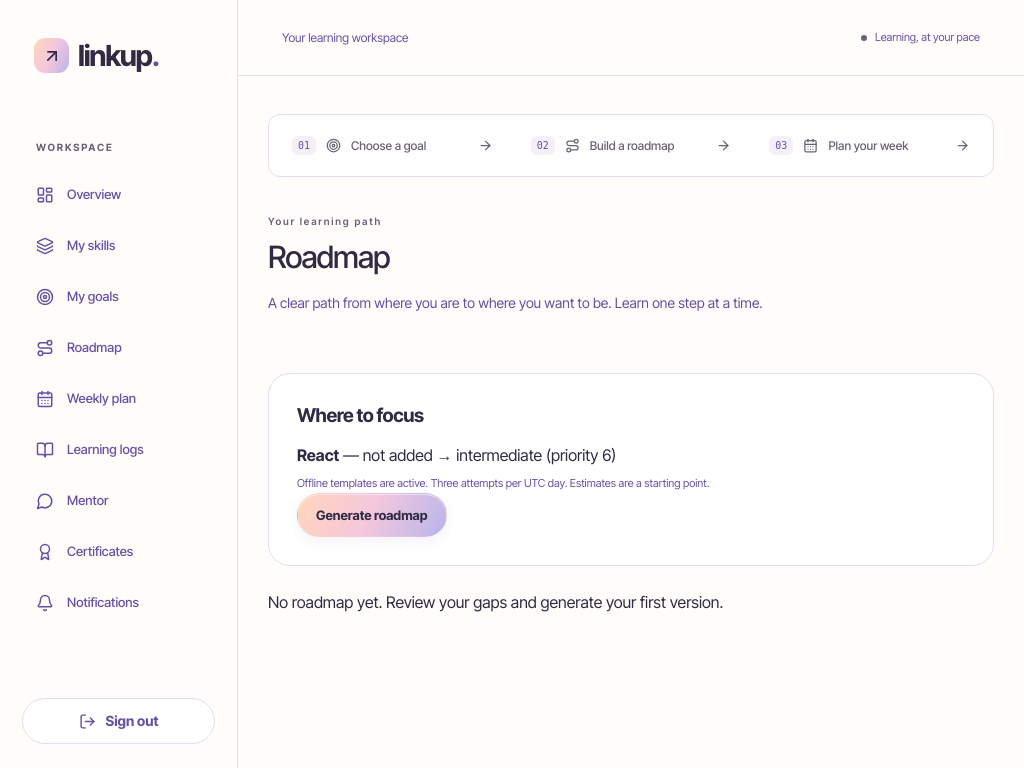
Roadmap page › requires review and confirmation before consuming an attempt
Click the button "Generate roadmap" at point(372, 515), box [297,493,446,537]
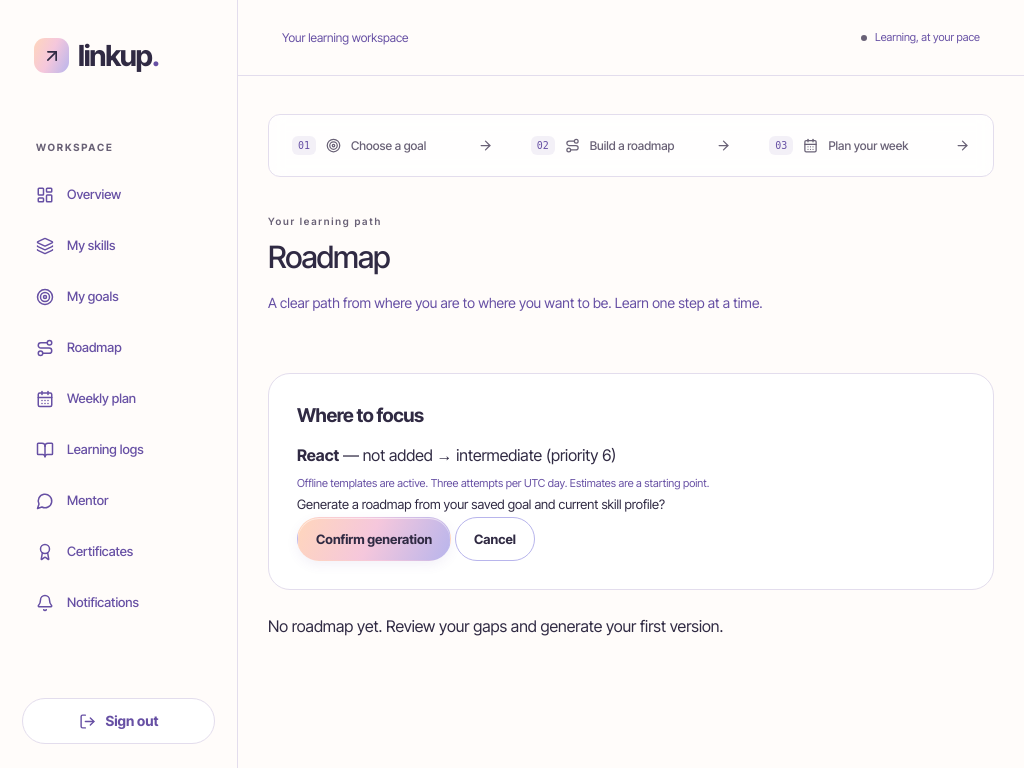
Click the button "Cancel" at point(495, 539), box [455,517,535,561]
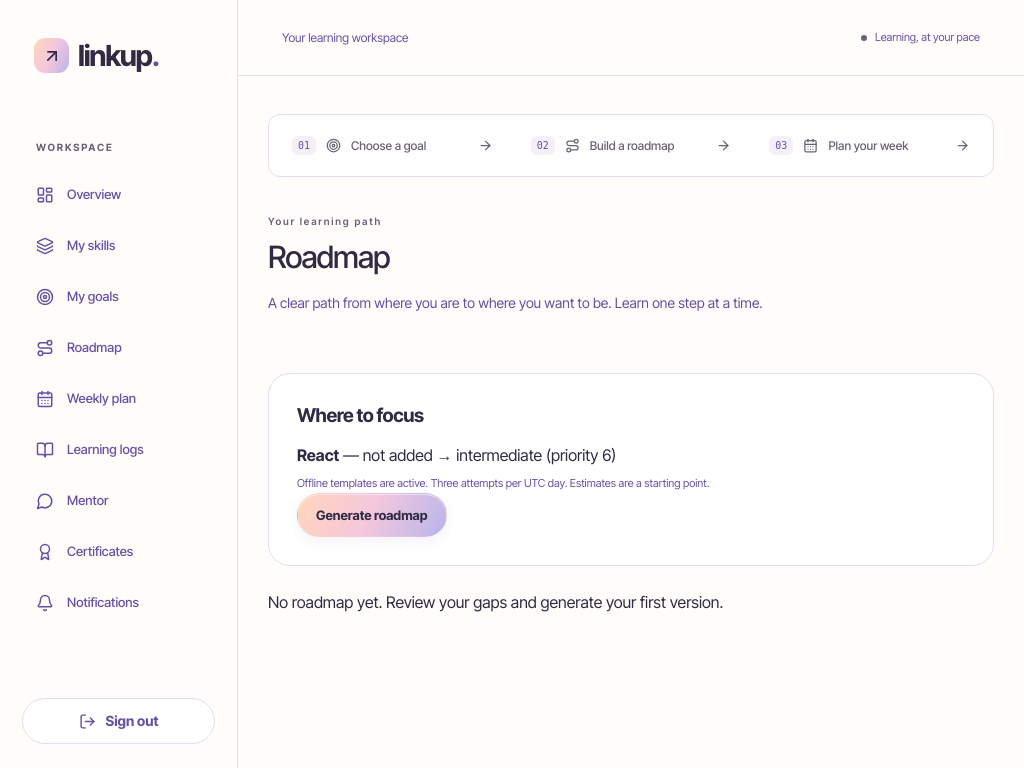
Click the button "Generate roadmap" at point(372, 515), box [297,493,446,537]
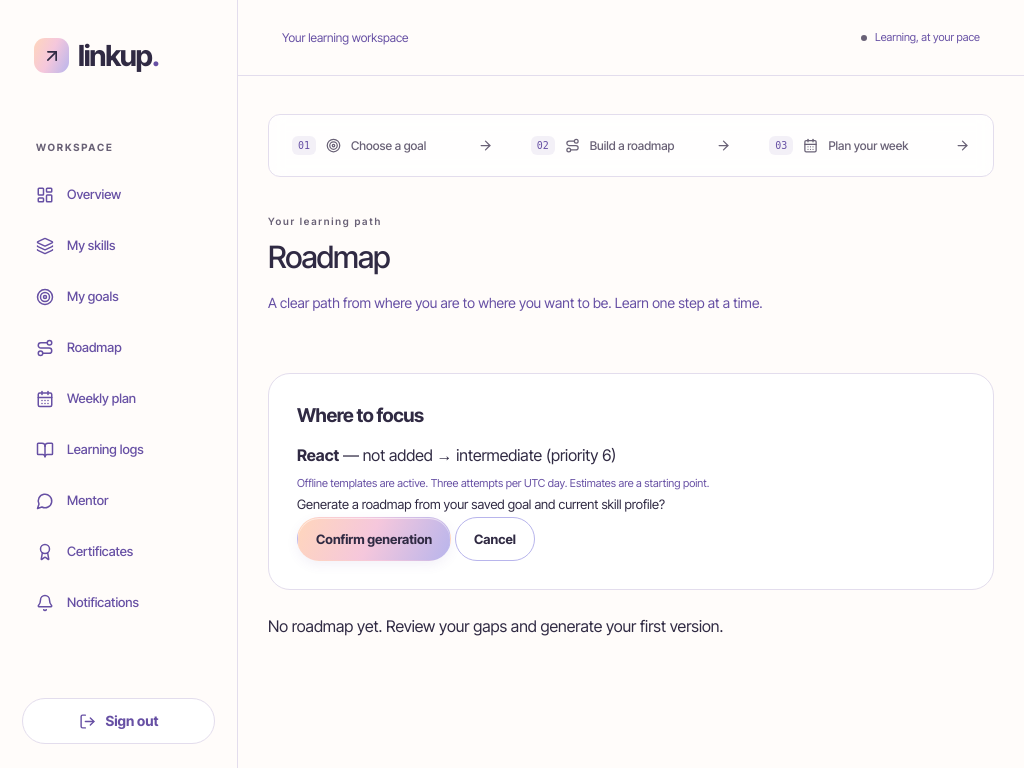
Click the button "Confirm generation" at point(374, 539), box [297,517,451,561]
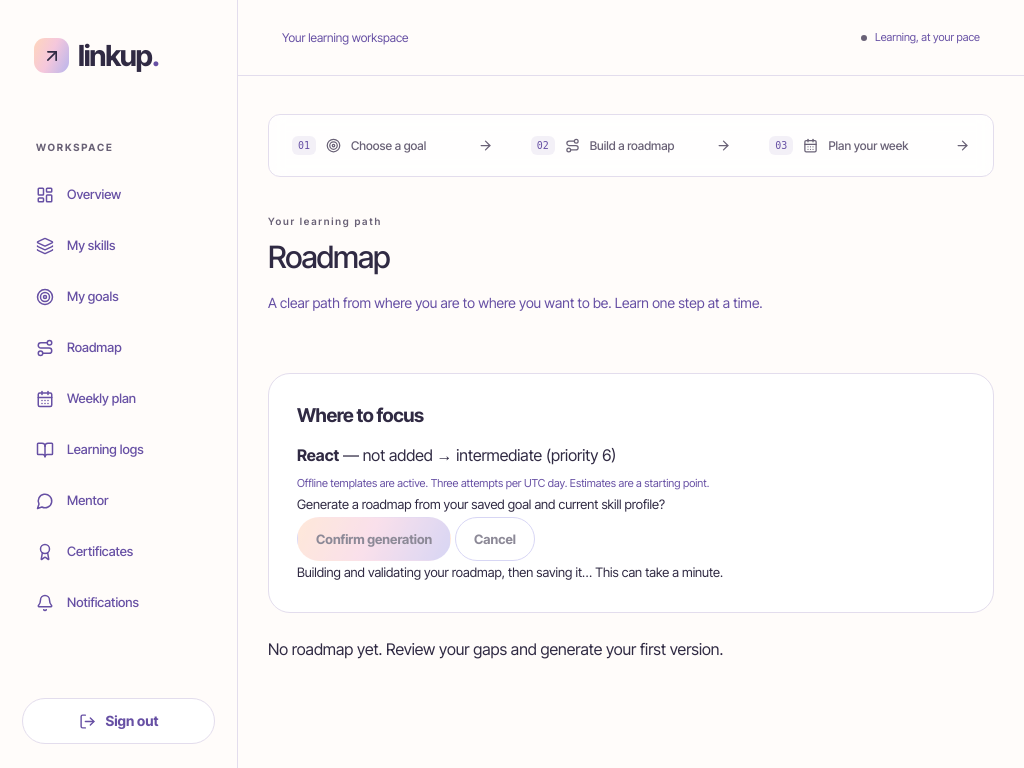
Check: the message shows "Building", box [297,564,723,580]
